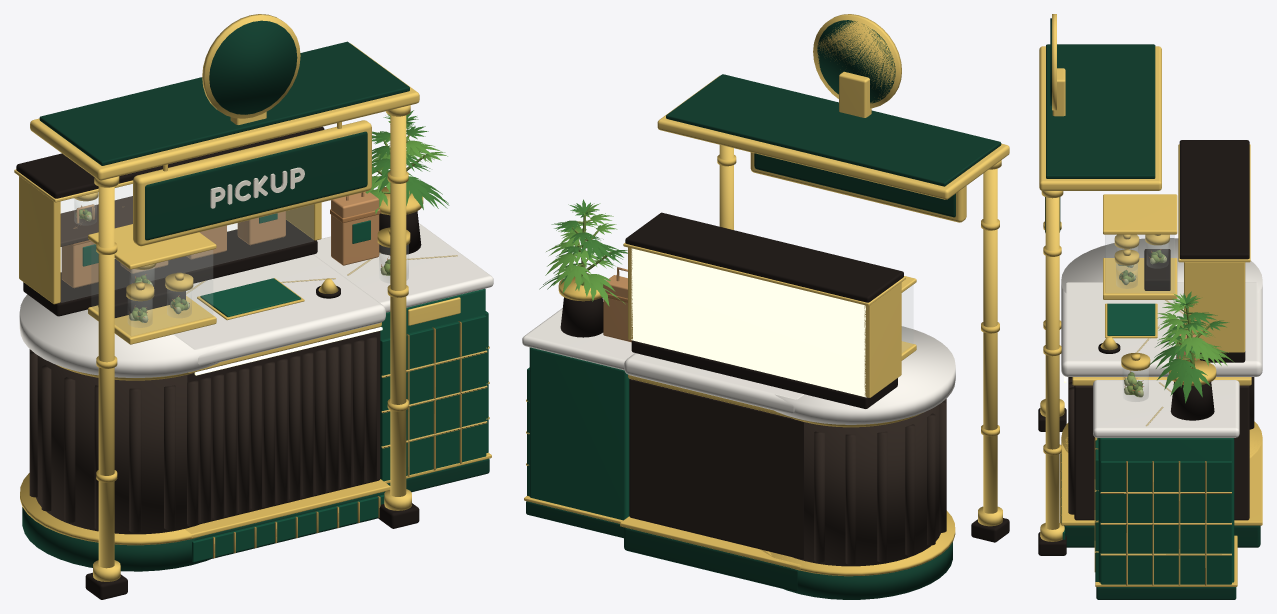
Rendered from pickup_desk_founder.glb.
3 views of the same model, side by side, from view 1: azimuth 30°, elevation 25°; view 2: azimuth 150°, elevation 25°; view 3: azimuth 270°, elevation 25° (orthographic). The views are drawn at different scales.
Parts seen in each view (by area): view 1: CanopyGreen, BodyEnd, CabTile, Sign, Top, CaseGlass, TopEnd, DisplayGlass, Roundel, Col0.47, Col-0.87, CaseBase (+53 smaller); view 2: Body, CaseBack, CanopyGreen, Cabinet, BodyEnd, CaseTop, TopEnd, Canopy, Col-0.87, Plinth, Top, RoundelRing (+23 smaller); view 3: CabTileSide, CanopyGreen, Top, CaseTop, CabinetTop, Col0.47, Body, CasePost0.45, DisplayGlass, Cabinet, Canopy, DisplayCap (+31 smaller).
Boxes of the visible parts, <box> form: CanopyGreen: <box>39,41,409,165</box>; BodyEnd: <box>36,355,198,534</box>; CabTile: <box>380,315,486,481</box>; Sign: <box>145,131,367,240</box>; Top: <box>173,254,385,365</box>; CaseGlass: <box>61,184,313,302</box>; TopEnd: <box>19,294,219,377</box>; DisplayGlass: <box>92,242,212,335</box>; Roundel: <box>209,20,297,114</box>; Col0.47: <box>390,115,406,496</box>; Col-0.87: <box>98,186,114,568</box>; CaseBase: <box>23,220,317,316</box>; Body: <box>629,379,803,559</box>; CaseBack: <box>631,248,866,397</box>; CanopyGreen: <box>666,74,1001,186</box>; Cabinet: <box>529,347,629,520</box>; BodyEnd: <box>794,404,940,566</box>; CaseTop: <box>625,212,903,302</box>; TopEnd: <box>775,326,955,424</box>; Canopy: <box>657,75,1009,199</box>; Col-0.87: <box>983,168,997,513</box>; Plinth: <box>624,527,797,591</box>; Top: <box>624,353,803,413</box>; RoundelRing: <box>813,14,901,108</box>; CabTileSide: <box>1100,461,1231,584</box>; CanopyGreen: <box>1046,44,1155,178</box>; Top: <box>1061,282,1262,376</box>; CaseTop: <box>1179,140,1249,259</box>; CabinetTop: <box>1093,380,1239,437</box>; Col0.47: <box>1045,197,1059,529</box>; Body: <box>1074,385,1249,520</box>; CasePost0.45: <box>1184,262,1245,352</box>; DisplayGlass: <box>1105,235,1174,292</box>; Cabinet: <box>1098,438,1234,582</box>; Canopy: <box>1039,46,1161,190</box>; DisplayCap: <box>1103,194,1177,234</box>.
Bounding box in the file's own units: 1.99 × 2.37 × 1.03.
